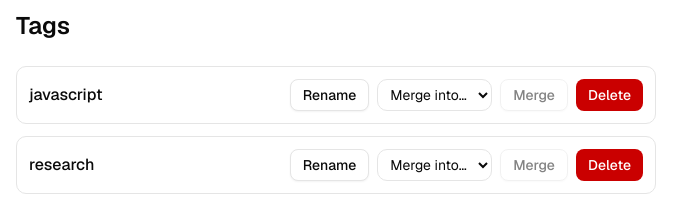
Test: TagManagementView › renames a tag and reflects the change after reload
Expected: the text "javascript" is shown, [29,83,103,107]
Click the button "Rename" in the row of "javascript": (330, 95) [290,79,369,111]
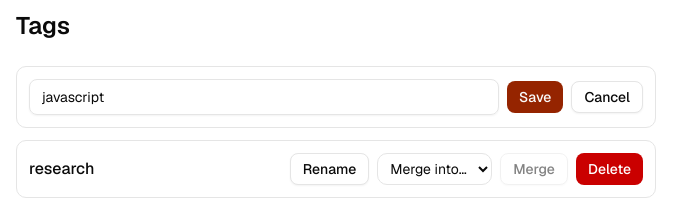
Replace the text in the field named "Tag name" with "js": (264, 97) [29,79,499,115]
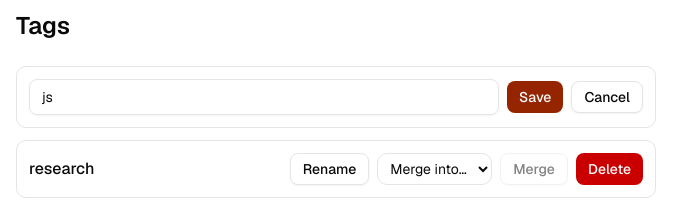
Click the button "Save": (535, 97) [507,81,563,113]
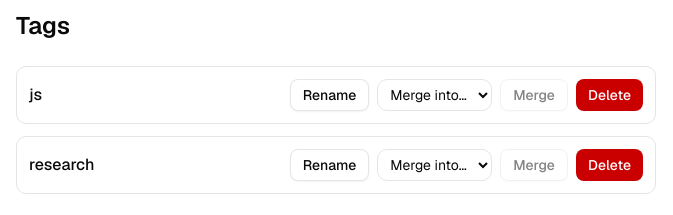
Expected: the text "js" is shown, [29,83,42,107]
